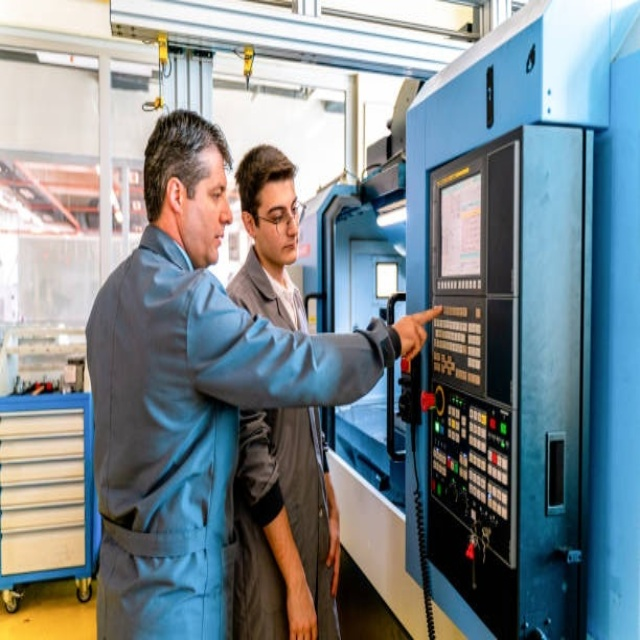Gafas: (252, 201, 306, 234)
Sin_gafas: (191, 179, 226, 202)
Sin_guantes: (390, 303, 445, 362), (321, 491, 346, 599), (281, 582, 320, 637)
Sin_mascara: (200, 229, 225, 264), (274, 235, 298, 262)
